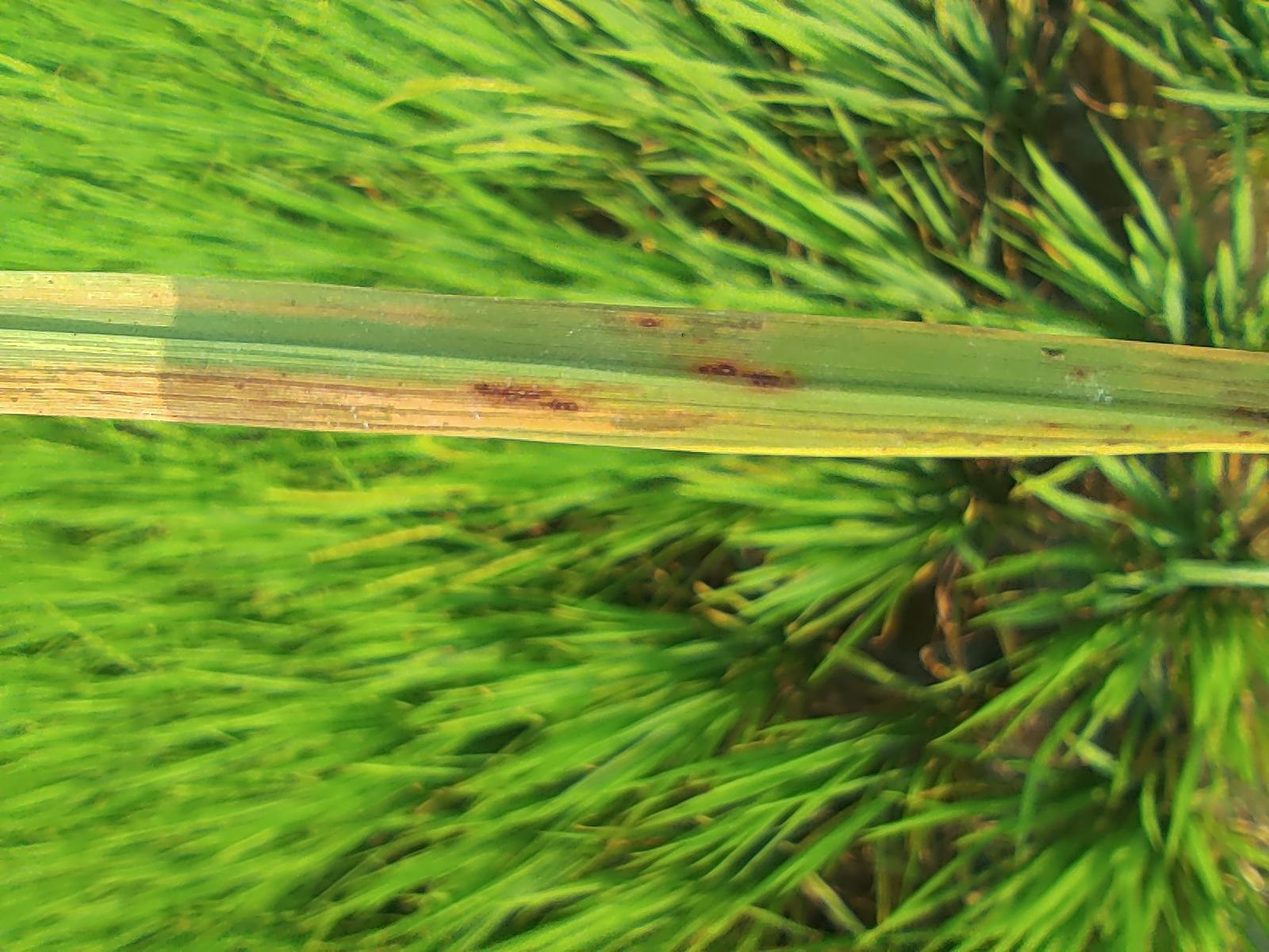NBS: (730, 355, 762, 415), (695, 906, 731, 951), (752, 555, 776, 595), (767, 522, 785, 553), (669, 821, 689, 847), (721, 404, 738, 434), (759, 802, 786, 820), (687, 780, 714, 797), (687, 836, 709, 853), (688, 887, 707, 901), (685, 926, 697, 940), (834, 479, 844, 493)
